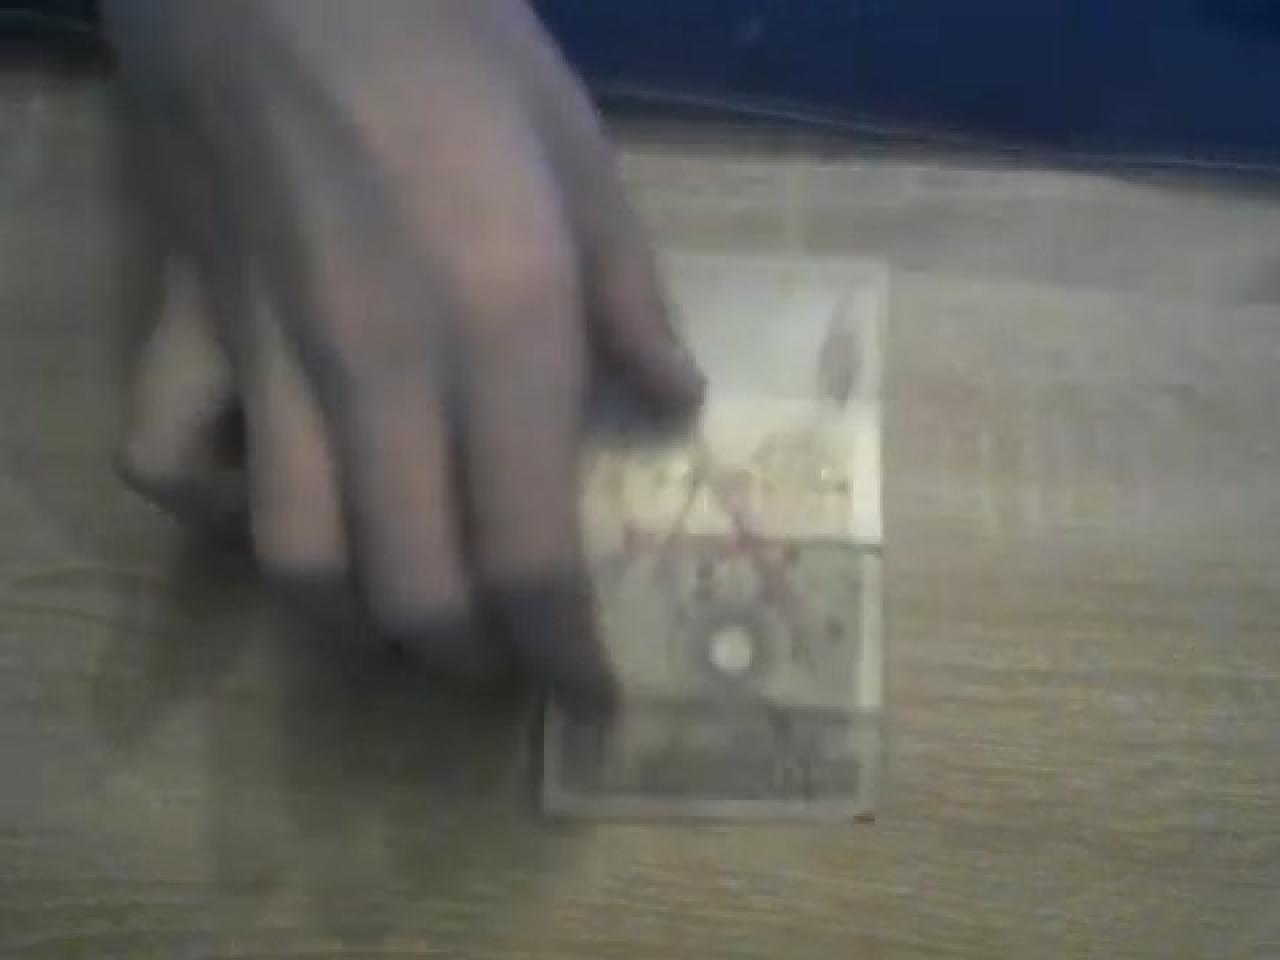10leva: (539, 296, 888, 829)
